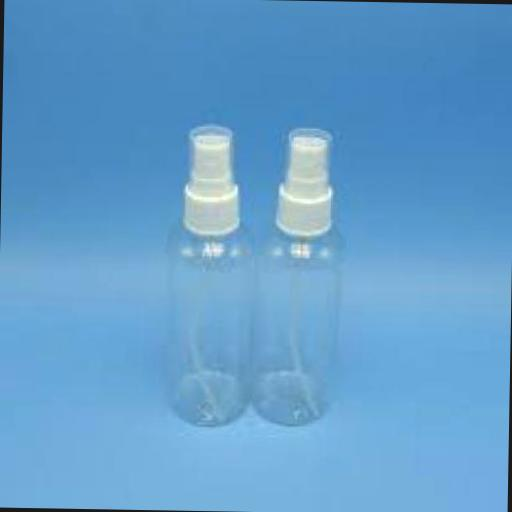plastic: (249, 122, 342, 424), (166, 124, 252, 423), (272, 126, 334, 238), (182, 122, 239, 234)
